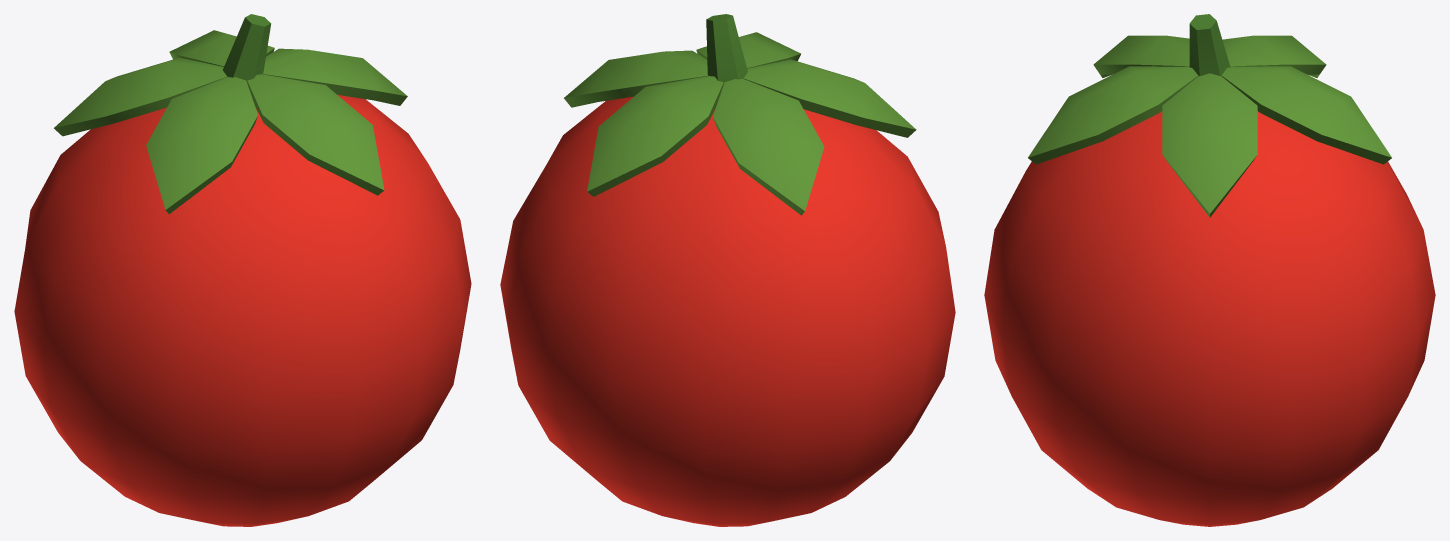
Rendered from tomato_fruit.glb.
3 renders of one model, left to right at view 1: azimuth 30°, elevation 25°; view 2: azimuth 150°, elevation 25°; view 3: azimuth 270°, elevation 25°, orthographic.
Visible parts, largest first — view 1: HarvestTarget Tomato P01 F01; view 2: HarvestTarget Tomato P01 F01; view 3: HarvestTarget Tomato P01 F01.
Boxes of the visible parts, box(x1,y1,x2,y2) form: HarvestTarget Tomato P01 F01: box(14, 14, 471, 526); HarvestTarget Tomato P01 F01: box(500, 14, 955, 526); HarvestTarget Tomato P01 F01: box(984, 14, 1435, 526).
Size of the model in its own units: 0.4633 by 0.5403 by 0.4475.
